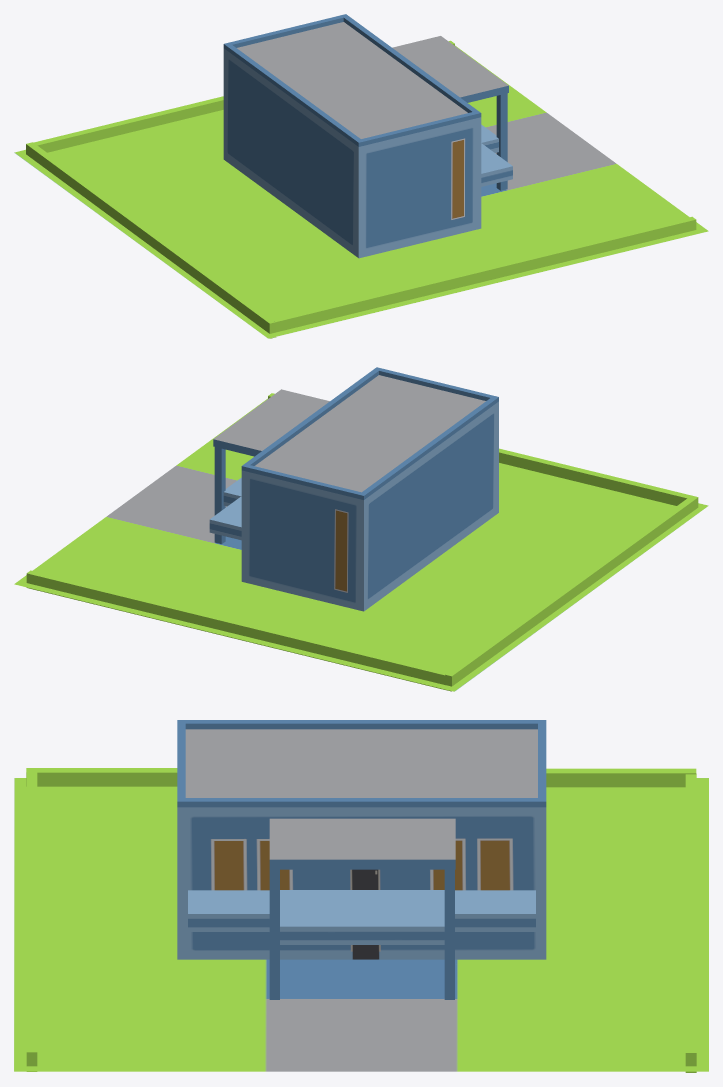
File: 1maison_5.glb
The picture shows the model from 3 angles, top to bottom: view 1: azimuth 30°, elevation 25°; view 2: azimuth 150°, elevation 25°; view 3: azimuth 270°, elevation 25°; orthographic projection. The views are drawn at different scales.
Parts seen in each view (by area): view 1: Plan; view 2: Plan; view 3: Plan.
Boxes of the visible parts, x1,y1,x2,y2 form: Plan: (14,14,708,338); Plan: (14,367,708,691); Plan: (14,720,708,1072).
Bounding box in the file's own units: 15 × 4.16 × 15.
1 material, 1 textured.
